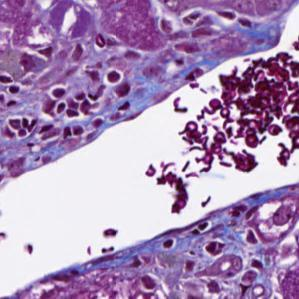inflammation: (40, 75, 102, 120), (6, 106, 41, 144)
